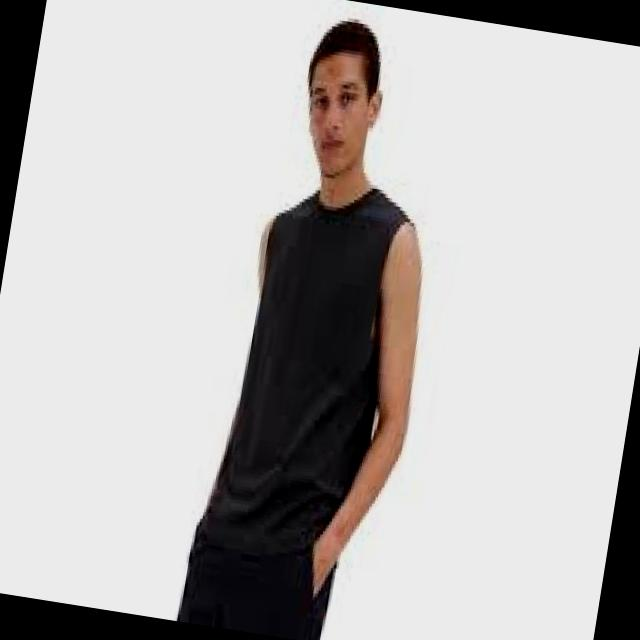no_vest: (196, 166, 422, 567)
